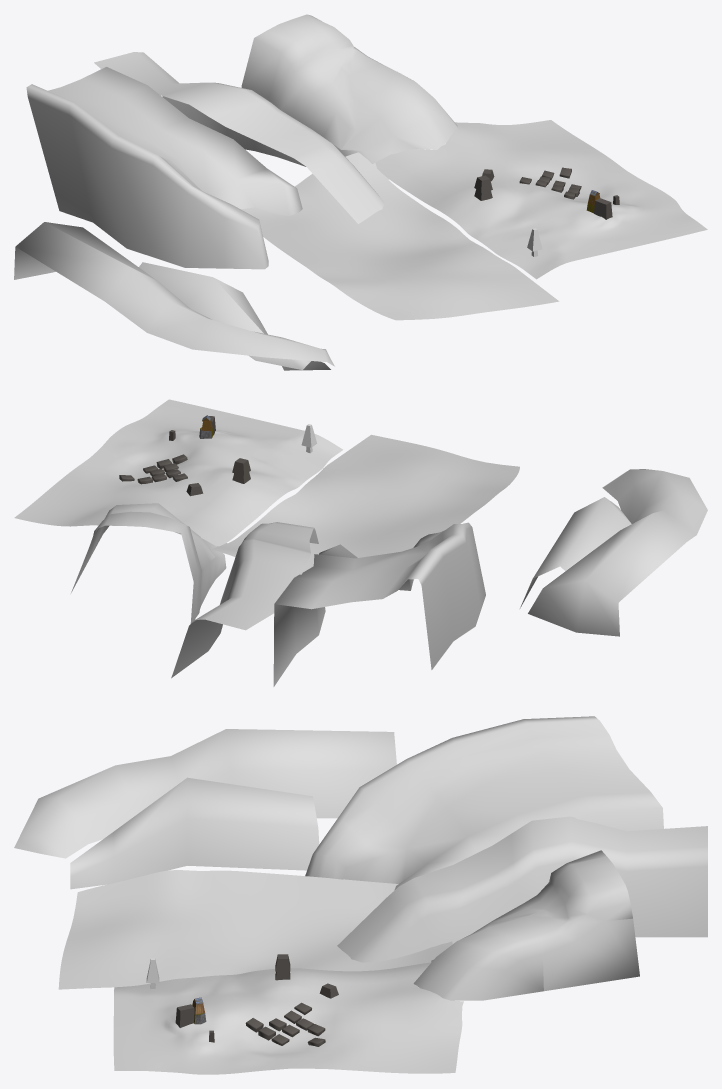
File: assests.fbx
3 views of the same model, one above another, from view 1: azimuth 30°, elevation 25°; view 2: azimuth 150°, elevation 25°; view 3: azimuth 270°, elevation 25° (orthographic). The views are drawn at different scales.
Visible parts, largest first — view 1: terrain_3, terrain_1, terrain_6, terrain_5, terrain_4, terrain_2, terrain_4.001; view 2: terrain_1, terrain_6, terrain_3, terrain_4, terrain_2, terrain_5, terrain_4.001; view 3: terrain_3, terrain_1, terrain_6, terrain_2, terrain_4, terrain_5, terrain_4.001.
Part boxes in pixels (<box>): terrain_3: <box>26,67,302,269</box>; terrain_1: <box>375,120,707,279</box>; terrain_6: <box>241,152,559,320</box>; terrain_5: <box>241,14,457,163</box>; terrain_4: <box>14,222,334,366</box>; terrain_2: <box>94,52,384,223</box>; terrain_4.001: <box>139,262,330,370</box>; terrain_1: <box>14,399,342,546</box>; terrain_6: <box>212,434,519,572</box>; terrain_3: <box>273,522,485,686</box>; terrain_4: <box>528,469,707,636</box>; terrain_2: <box>171,522,318,678</box>; terrain_5: <box>71,503,226,623</box>; terrain_4.001: <box>520,497,631,608</box>; terrain_3: <box>305,716,663,890</box>; terrain_1: <box>113,962,463,1074</box>; terrain_6: <box>58,870,452,989</box>; terrain_2: <box>337,816,707,962</box>; terrain_4: <box>14,729,396,858</box>; terrain_5: <box>413,850,639,1000</box>; terrain_4.001: <box>70,777,319,889</box>.
Bounding box in the file's own units: 189 × 42.55 × 179.
